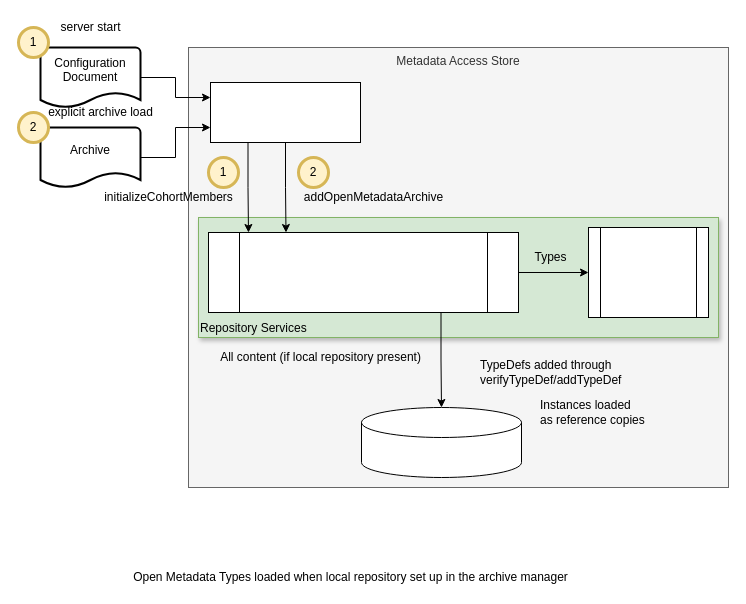
Some shapes in this 746 by 604 pixel diagram are drawn without their labels. Here are the shapes that lost their labels. From the top down, the centre of each, then its label:
point (285, 112): Admin Services
point (363, 272): Archive Manager
point (648, 272): Repository Content Manager
point (441, 442): Local Repository
